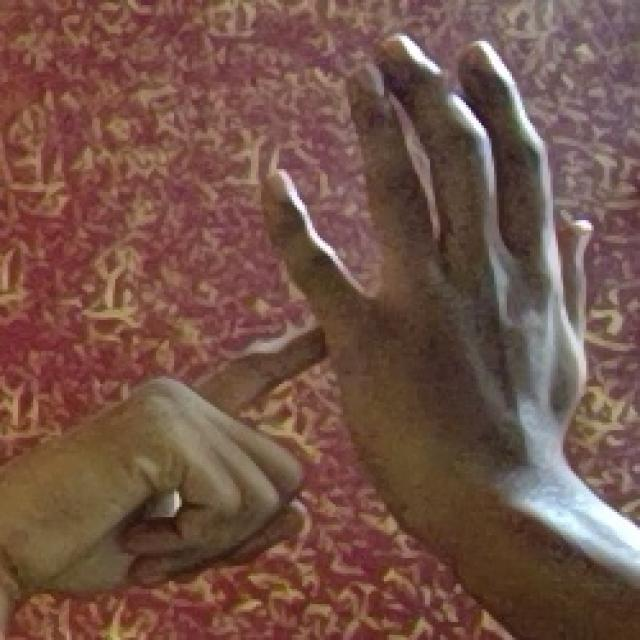Alphabet-R: (51, 22, 598, 587)
